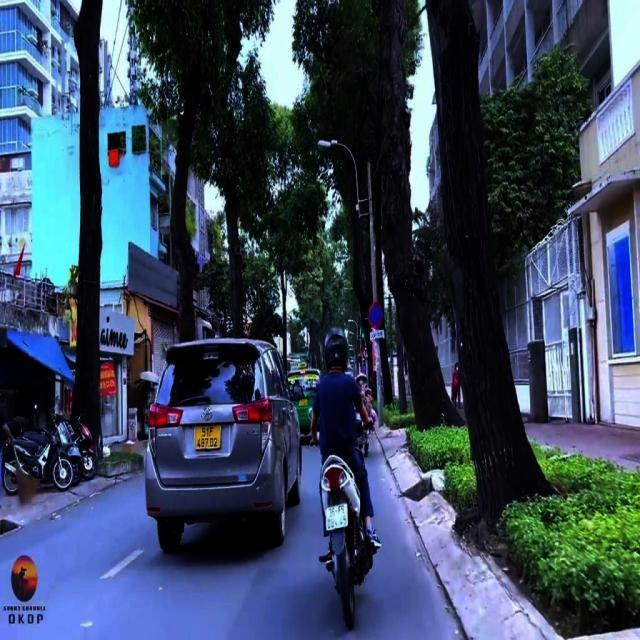131a-cam-do-xe: (367, 300, 385, 328)
